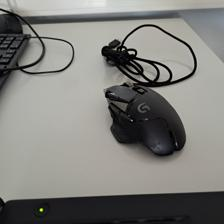mouse: (102, 79, 187, 157)
